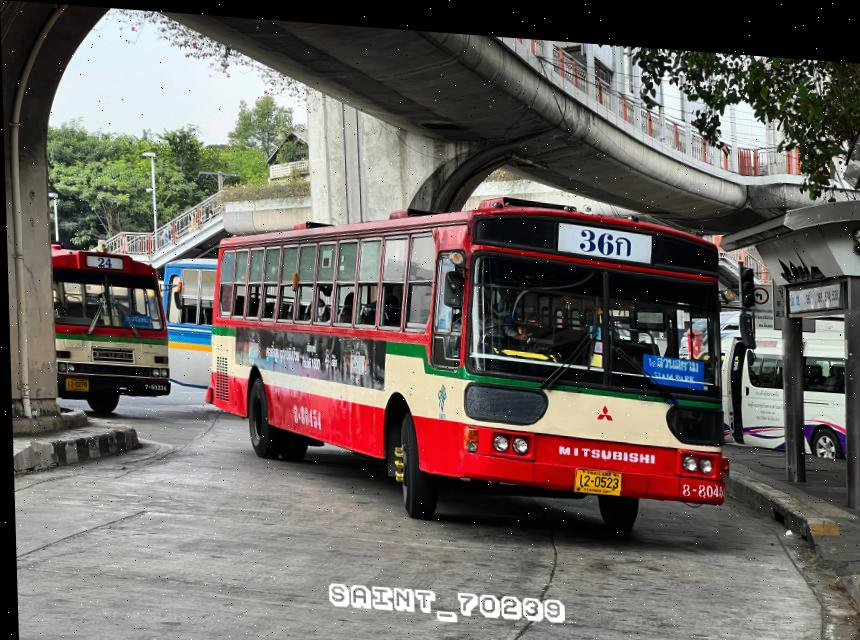BMTA-bus: (205, 192, 726, 527), (49, 250, 168, 413)
Bus Line Number: (570, 216, 637, 255), (94, 256, 114, 268)
Bus Side Number: (674, 468, 724, 494), (135, 377, 168, 391)
Destination Sign: (640, 342, 703, 382), (118, 312, 153, 327)
